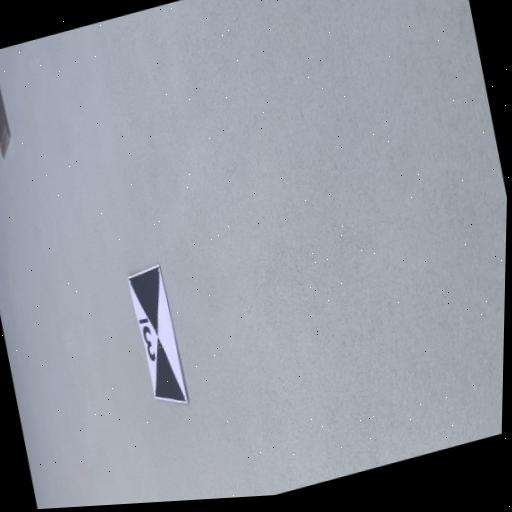target3: (126, 260, 189, 405)
